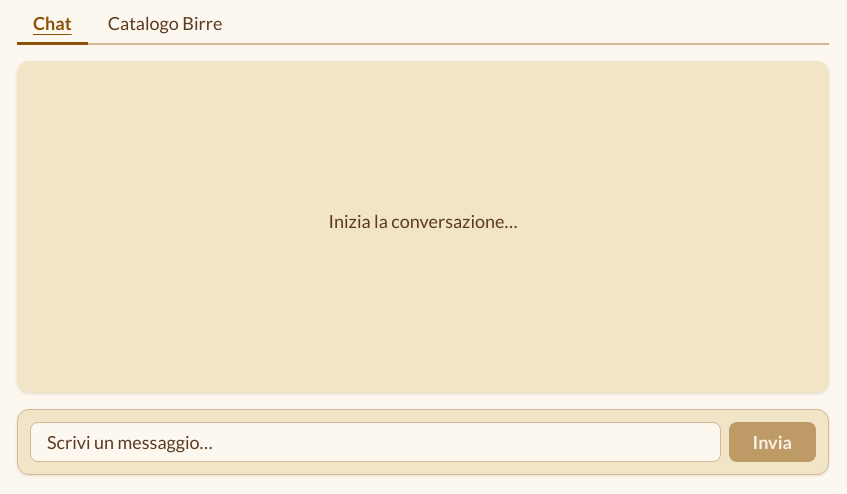
ChatPage integration › sends a message and appends both user and assistant messages
Type "What beers do you have?" into the field at (375,442), box [30,422,720,462]
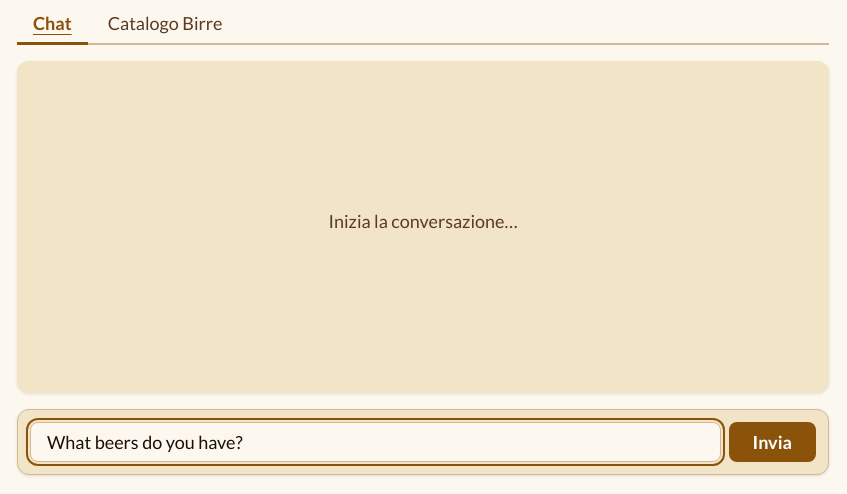
Click the button "Invia" at (772,442), box [728,422,816,462]
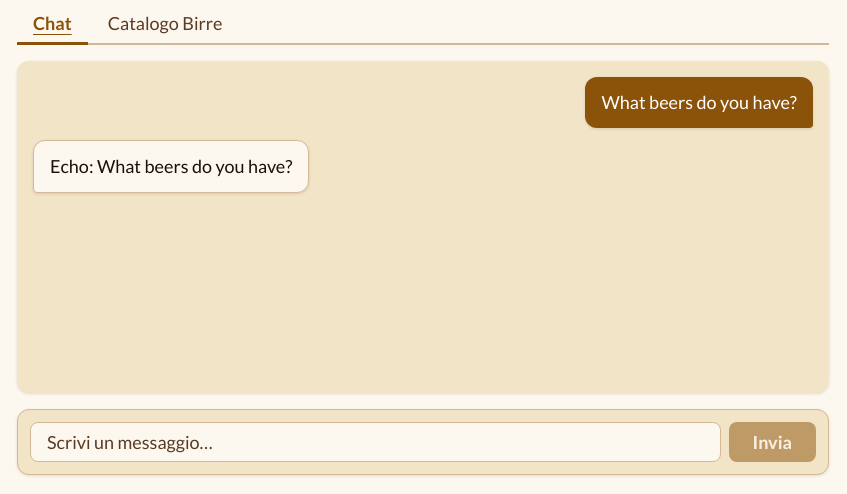
Expected: the text "What beers do you have?" is shown, [585,77,813,128]
Expected: the text "Echo: What beers do you have?" is shown, [33,140,310,193]
